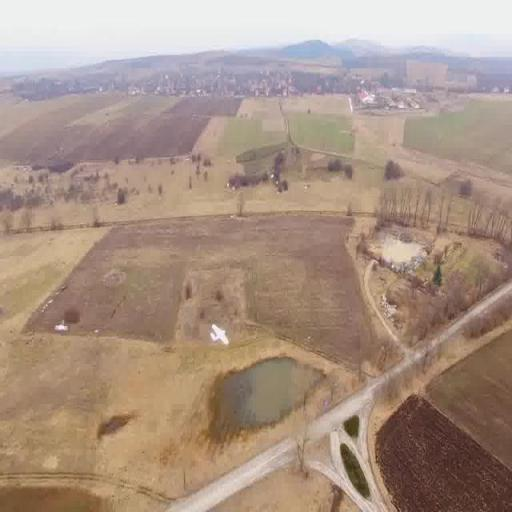uav: (202, 309, 234, 360)
